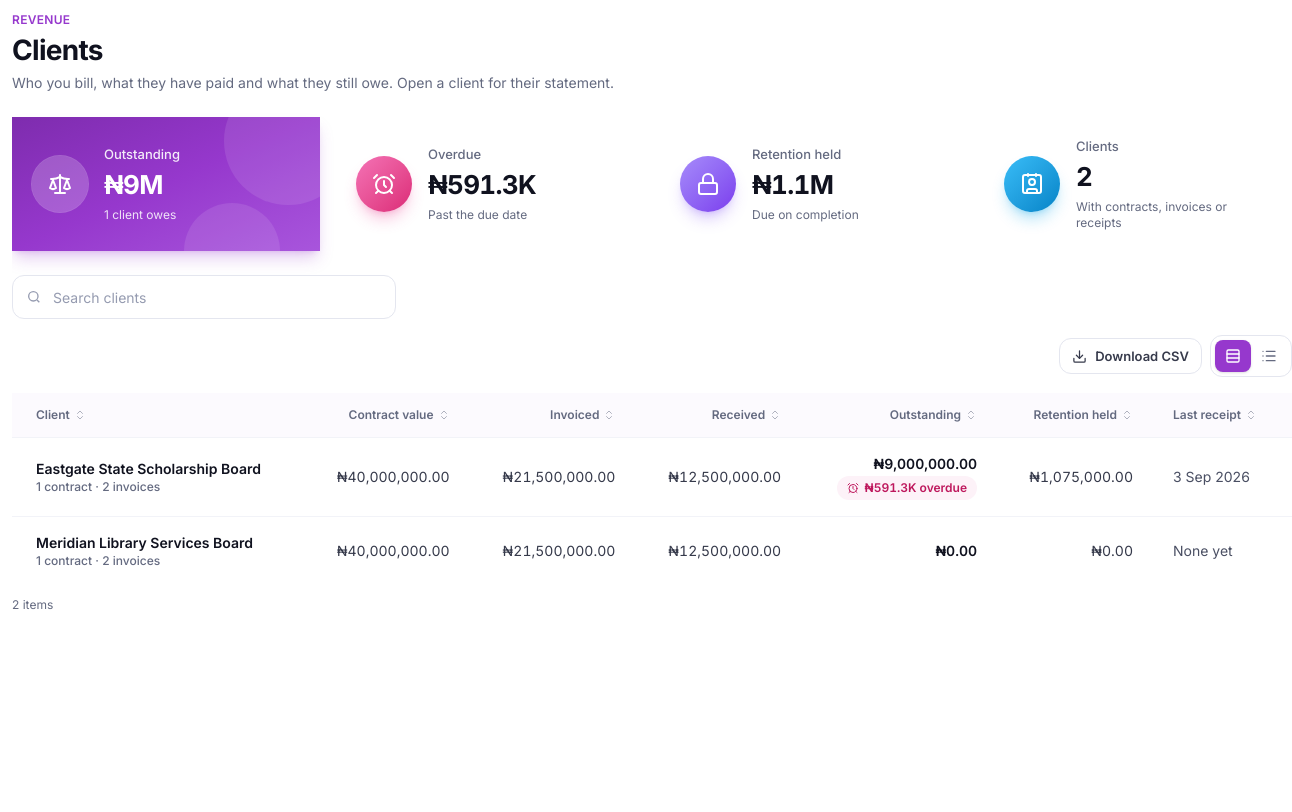
Test: ClientsBoard › finds a client by name
This screenshot has width=1292, height=812.
Check: the table is shown, box [12,393,1291,585]
Step 1. Type "library" into the search field labelled "Search clients" → (204, 297), box [12,275,396,319]
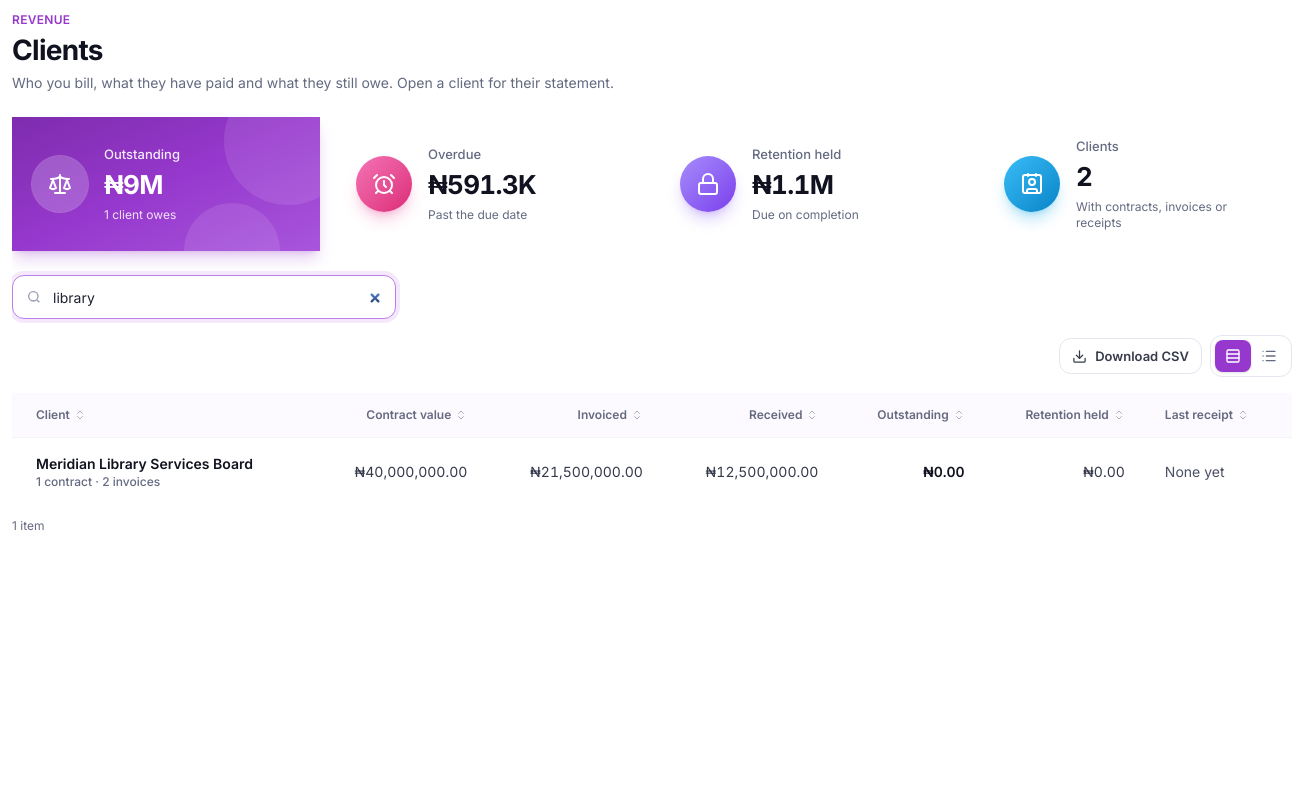
Check: the text "Meridian Library Services Board" is shown, box [36,455,253,472]
Check: the link "Eastgate State Scholarship Board" is gone
